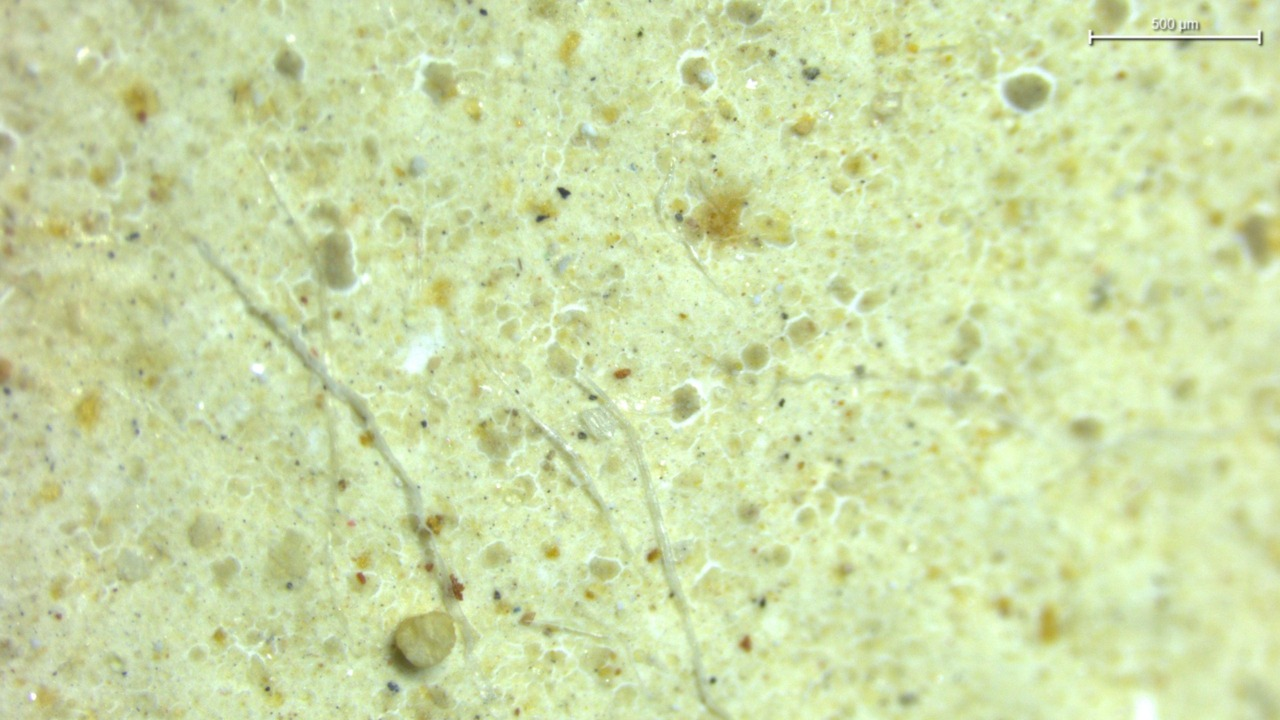microplastic_fragment: (578, 404, 624, 440)
